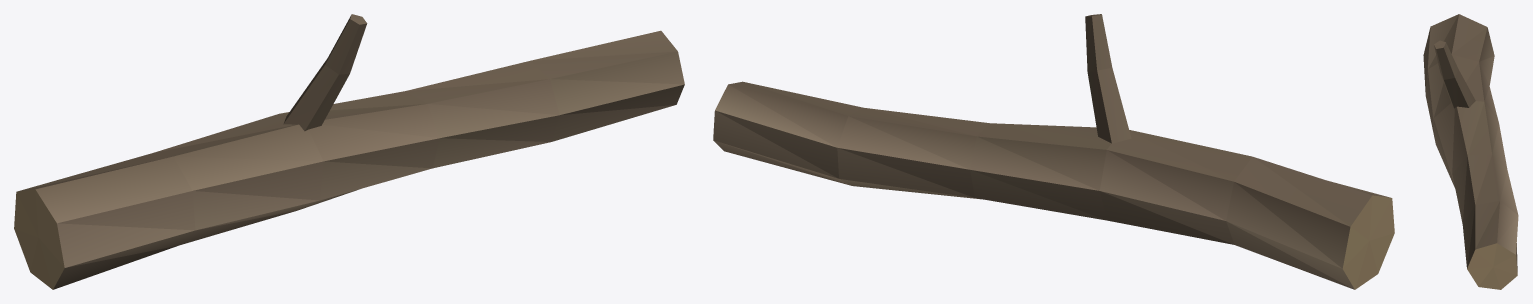
The model's file is drift_a.glb.
The picture shows the model from 3 angles, left to right: view 1: azimuth 30°, elevation 25°; view 2: azimuth 150°, elevation 25°; view 3: azimuth 270°, elevation 25°; orthographic projection. The views are drawn at different scales.
Parts seen in each view (by area): view 1: driftwood_solid; view 2: driftwood_solid; view 3: driftwood_solid.
Part boxes in pixels (x1,y1,x2,y2): driftwood_solid: (14,14,684,289); driftwood_solid: (713,14,1394,289); driftwood_solid: (1423,14,1518,289).
Bounding box in the file's own units: 3.22 × 0.9644 × 0.6011.
